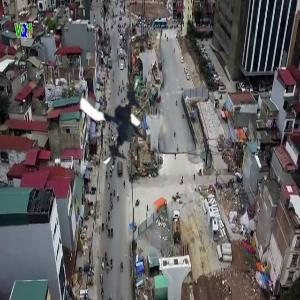drone: (65, 67, 163, 165)
